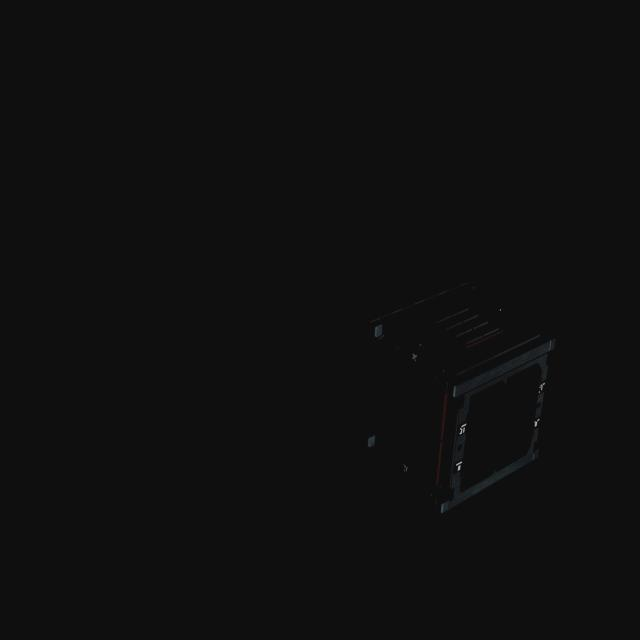medium_debris: (344, 276, 562, 516)
